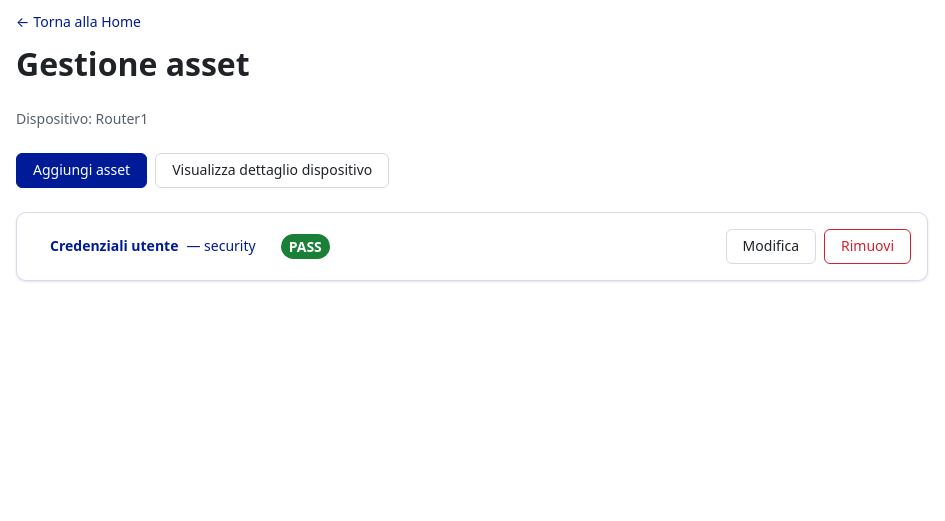
it: DeviceAssetManagementPage › shows the status of each requirement in the detail view (RF-Ob43)
The image size is (945, 521).
Click the button "Credenziali utente — security". click: (153, 246)
box: [33,229,273,264]
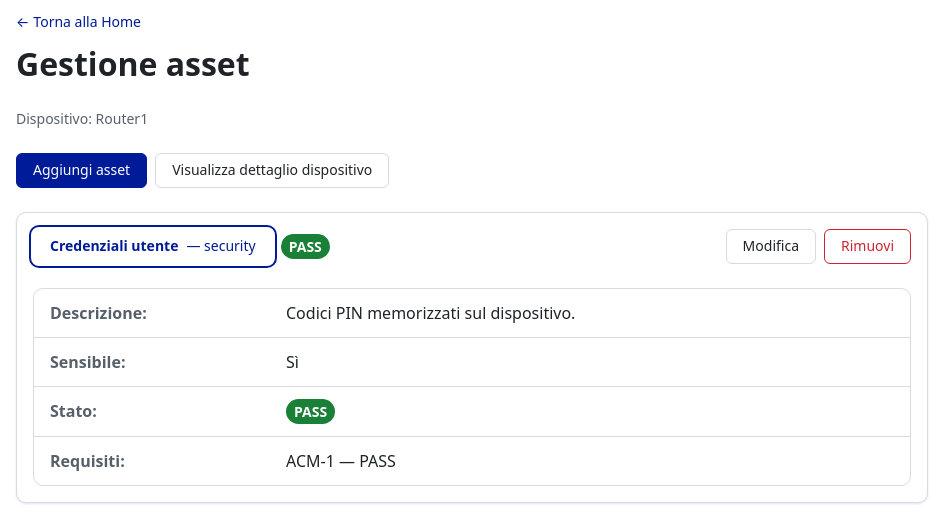
Check: the list item "ACM-1 — PASS" is shown, box [286,450,396,472]
